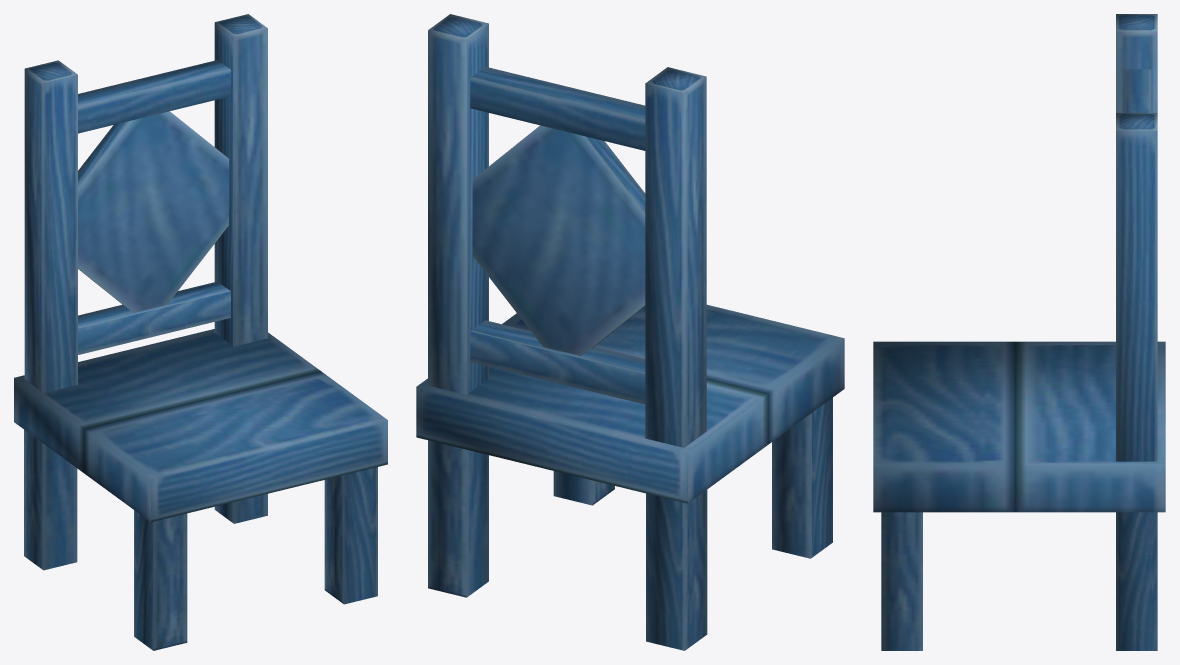
Rendered from rmk_blu_chairS.dae.
3 renders of one model, left to right at view 1: azimuth 30°, elevation 25°; view 2: azimuth 150°, elevation 25°; view 3: azimuth 270°, elevation 25°, orthographic. The views are drawn at different scales.
Parts seen in each view (by area): view 1: rmk_blu_chairS; view 2: rmk_blu_chairS; view 3: rmk_blu_chairS.
Part boxes in pixels (bbox=[...]): rmk_blu_chairS: bbox=[14, 14, 387, 650]; rmk_blu_chairS: bbox=[416, 14, 844, 650]; rmk_blu_chairS: bbox=[873, 14, 1165, 650].
Bounding box in the file's own units: 22.4 × 44 × 22.4.
Materials: 1 (1 with a texture image).
